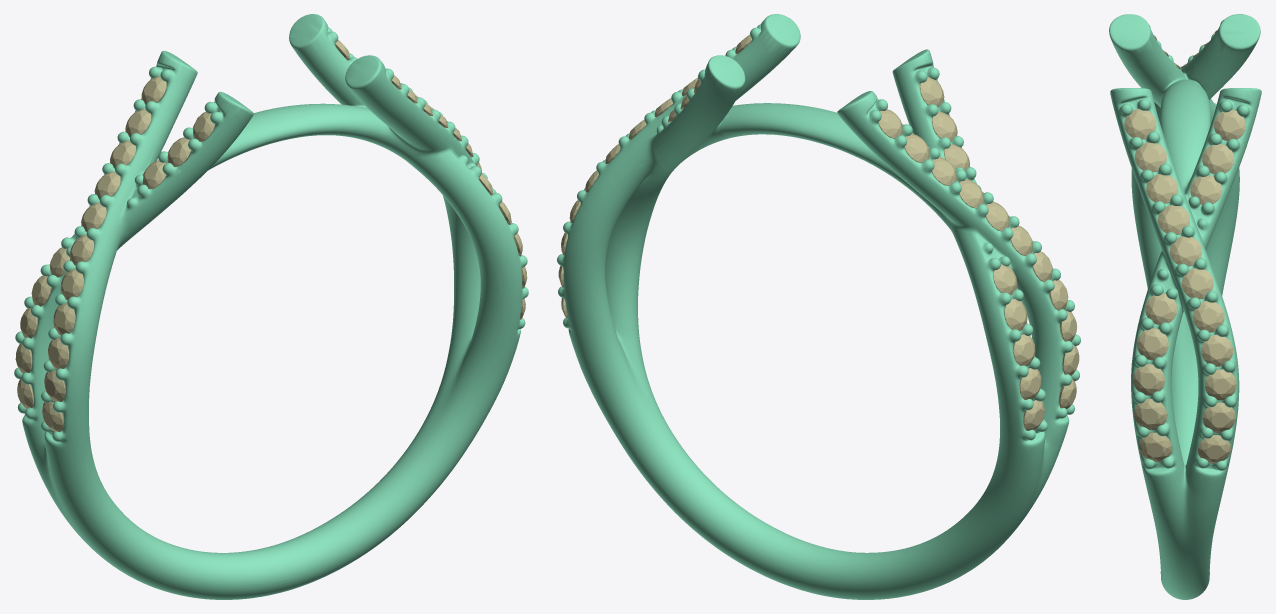
The picture shows the model from 3 angles, left to right: view 1: azimuth 30°, elevation 25°; view 2: azimuth 150°, elevation 25°; view 3: azimuth 270°, elevation 25°; orthographic projection. The views are drawn at different scales.
Parts seen in each view (by area): view 1: Metal02; view 2: Metal02; view 3: Metal02, Diamond_Gem.014, Diamond_Gem.015, Diamond_Gem.023, Diamond_Gem.021, Diamond_Gem.009, Diamond_Gem.022, Diamond_Gem.008, Diamond_Gem.025, Diamond_Gem.011, Diamond_Gem.012, Diamond_Gem.024 (+8 smaller).
Part boxes in pixels (bbox=[...]): Metal02: bbox=[14, 14, 528, 599]; Metal02: bbox=[557, 14, 1080, 599]; Metal02: bbox=[1109, 14, 1261, 599]; Diamond_Gem.014: bbox=[1134, 398, 1167, 430]; Diamond_Gem.015: bbox=[1137, 328, 1168, 360]; Diamond_Gem.023: bbox=[1201, 334, 1232, 366]; Diamond_Gem.021: bbox=[1181, 268, 1213, 299]; Diamond_Gem.009: bbox=[1133, 364, 1164, 395]; Diamond_Gem.022: bbox=[1192, 301, 1224, 332]; Diamond_Gem.008: bbox=[1145, 293, 1177, 324]; Diamond_Gem.025: bbox=[1202, 402, 1235, 432]; Diamond_Gem.011: bbox=[1214, 109, 1245, 140]; Diamond_Gem.012: bbox=[1202, 144, 1234, 174]; Diamond_Gem.024: bbox=[1205, 369, 1236, 400].
Size of the model in its own units: 21.2 by 22.54 by 5.95.
